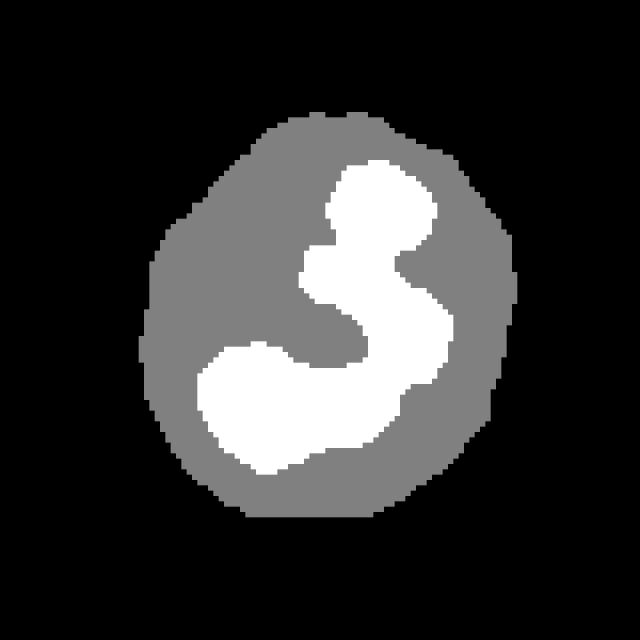WBC: (112, 112, 539, 528)
